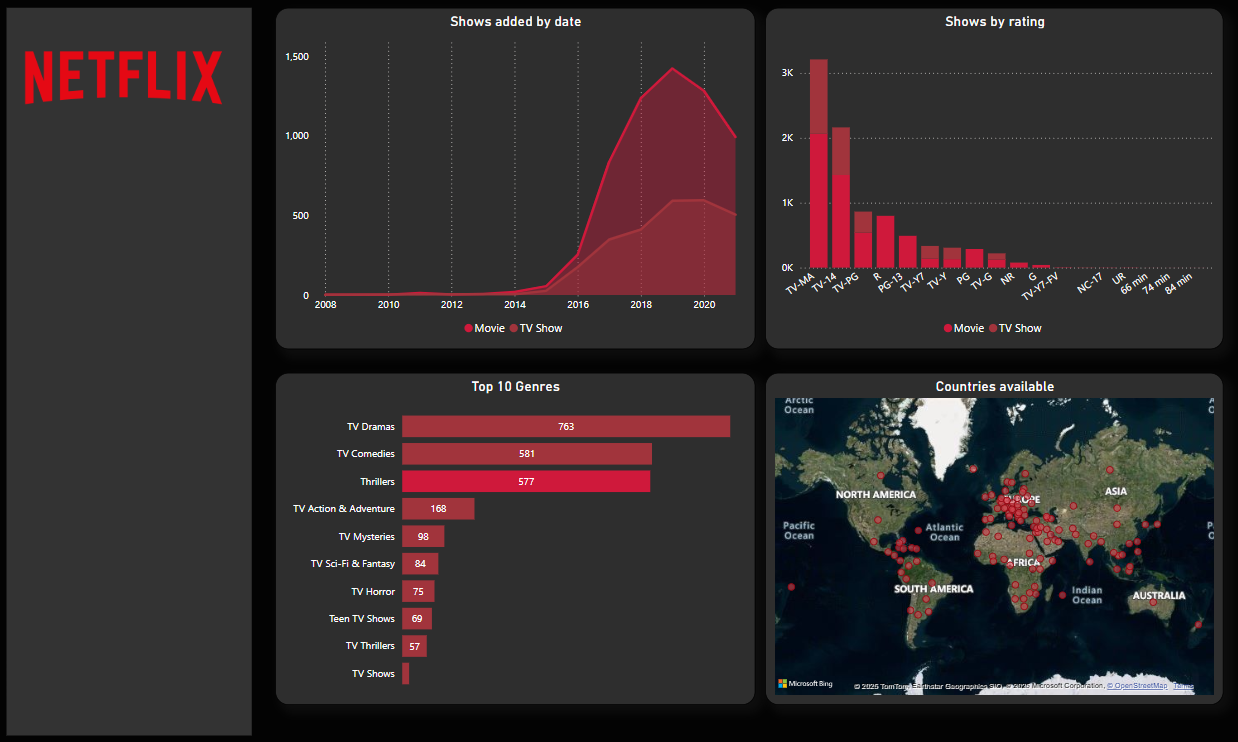

The dashboard page shown, as its layout file describes it:
{"tool":"powerbi","page":{"name":"overview","canvas":[1500,900],"ordinal":0},"visuals":[{"type":"shape","box":[9.6,11.3,295.9,878],"z":0},{"type":"areaChart","title":"Shows added by date","fields":{"Y":["CountNonNull(netflix_data netflixtitle.show_id)"],"Series":["netflix_data netflixtitle.type"],"Category":["netflix_data netflixtitle.date_added.Variation.Date Hierarchy.Year"]},"box":[333.3,10.6,579.1,411.7],"z":1000},{"type":"columnChart","title":"Shows by rating","fields":{"Category":["netflix_data netflixtitle.rating"],"Y":["CountNonNull(netflix_data netflixtitle.show_id)"],"Series":["netflix_data netflixtitle.type"]},"box":[924.6,11.3,553.2,411.7],"z":2000},{"type":"barChart","title":"Top 10 Genres","fields":{"Category":["netflix_data netflix_listed_in.category"],"Series":["netflix_data netflixtitle.type"],"Y":["CountNonNull(netflix_data netflix_listed_in.show_id)"]},"box":[332.9,450.3,578.9,400.4],"z":3000},{"type":"map","title":"Countries available","fields":{"Category":["netflix_data countries_released.country"]},"box":[924.6,450.3,553.2,400.4],"z":4000},{"type":"image","box":[0,0,300.7,181.7],"z":5000}]}

Visuals, with their boxes in screenshot pixels (x1, y1, x2, y2), scaled from the page's 1500x900 canvas onto the 1238x742 screenshot:
shape: <region>8, 9, 252, 733</region>
"Shows added by date" areaChart: <region>275, 9, 753, 348</region>
"Shows by rating" columnChart: <region>763, 9, 1220, 349</region>
"Top 10 Genres" barChart: <region>275, 371, 753, 701</region>
"Countries available" map: <region>763, 371, 1220, 701</region>
image: <region>0, 0, 248, 150</region>
